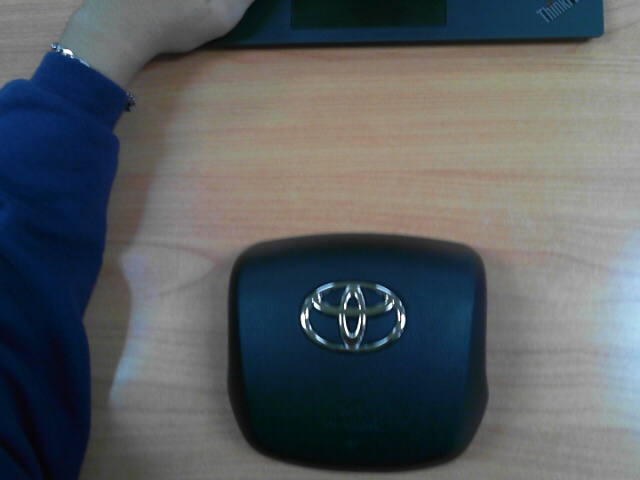Airbag: (226, 231, 486, 470)
